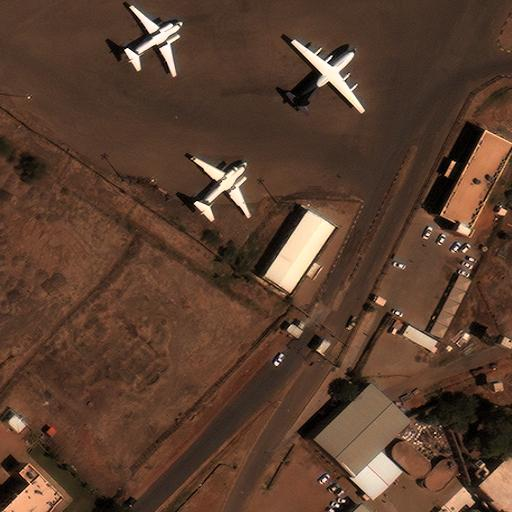Military Transport: (294, 38, 365, 110), (127, 4, 183, 76), (193, 155, 251, 215)
